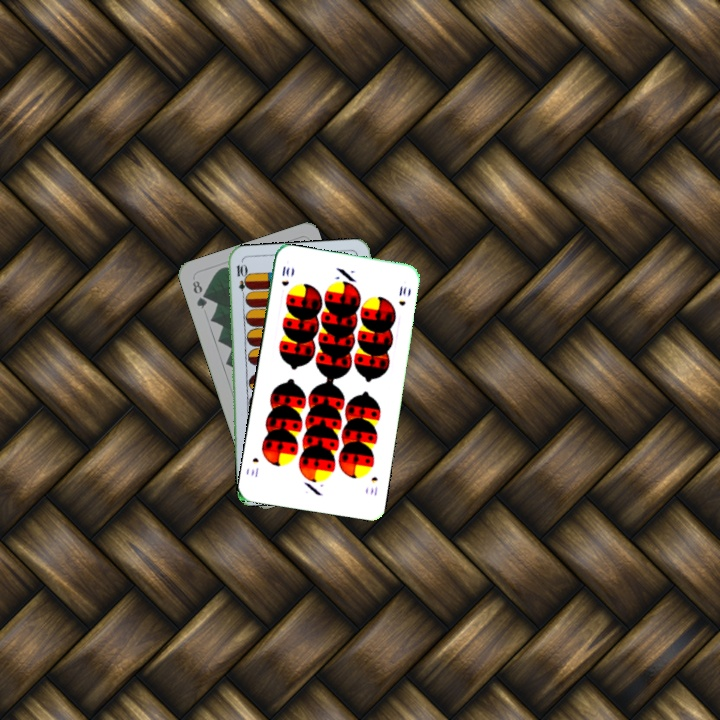E10: (233, 260, 248, 301)
G8: (188, 276, 209, 311)
S10: (277, 262, 292, 289), (366, 473, 380, 498)
